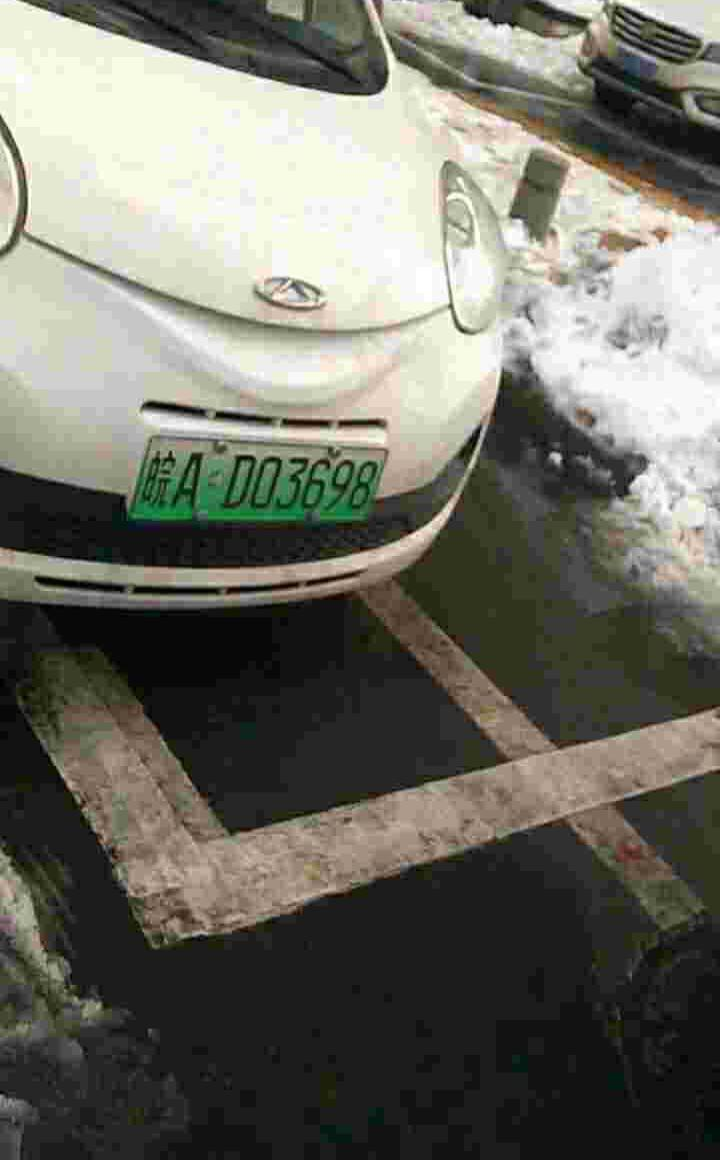car: (141, 435, 392, 523)
